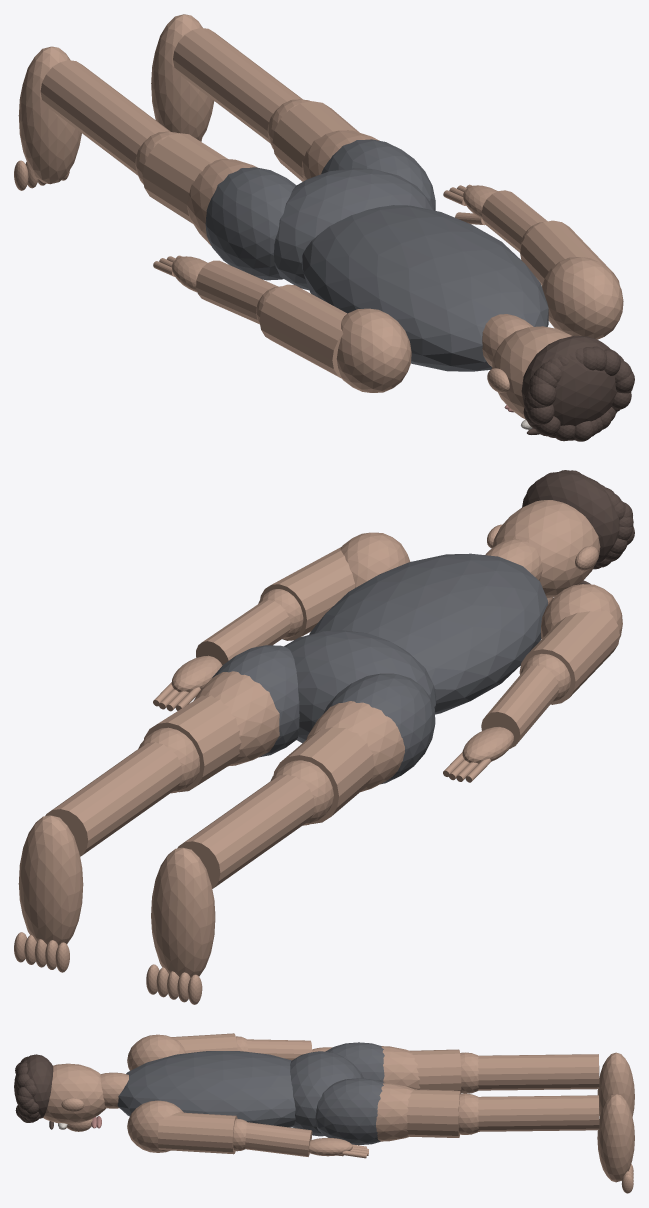
The model's file is A1_Nomad_Static.glb.
3 renders of one model, top to bottom at view 1: azimuth 30°, elevation 25°; view 2: azimuth 150°, elevation 25°; view 3: azimuth 270°, elevation 25°, orthographic. The views are drawn at different scales.
Visible parts, largest first — view 1: body_torso, pelvis, short_R, calf_R, calf_L, deltoid_L, deltoid_R, foot_R, upper_arm_R, foot_L, hair_cap, leg_thigh_R (+12 smaller); view 2: body_torso, pelvis, calf_L, calf_R, foot_R, foot_L, head, short_R, upper_arm_R, leg_thigh_R, leg_thigh_L, upper_thigh_L (+15 smaller); view 3: body_torso, calf_R, calf_L, short_L, pelvis, upper_arm_L, head, foot_L, leg_thigh_L, leg_thigh_R, forearm_L, upper_thigh_L (+14 smaller).
Boxes of the visible parts, <box> form: body_torso: <box>302,205,548,371</box>; pelvis: <box>273,168,433,290</box>; short_R: <box>205,167,296,280</box>; calf_R: <box>40,60,170,175</box>; calf_L: <box>173,28,302,142</box>; deltoid_L: <box>542,257,623,339</box>; deltoid_R: <box>336,308,411,392</box>; foot_R: <box>18,46,81,184</box>; upper_arm_R: <box>259,284,347,379</box>; foot_L: <box>151,14,214,140</box>; hair_cap: <box>521,335,616,426</box>; leg_thigh_R: <box>142,133,227,223</box>; body_torso: <box>309,553,547,714</box>; pelvis: <box>284,630,436,743</box>; calf_L: <box>45,742,182,856</box>; calf_R: <box>177,774,314,888</box>; foot_R: <box>151,847,215,977</box>; foot_L: <box>18,815,83,945</box>; head: <box>492,500,600,598</box>; short_R: <box>323,673,435,784</box>; upper_arm_R: <box>519,610,619,704</box>; leg_thigh_R: <box>273,727,374,823</box>; leg_thigh_L: <box>144,695,241,792</box>; upper_thigh_L: <box>193,671,279,766</box>; body_torso: <box>117,1051,295,1127</box>; calf_R: <box>478,1054,599,1090</box>; calf_L: <box>478,1095,599,1131</box>; short_L: <box>315,1078,384,1145</box>; pelvis: <box>290,1051,363,1136</box>; upper_arm_L: <box>158,1112,237,1154</box>; head: <box>43,1063,105,1123</box>; foot_L: <box>597,1094,634,1182</box>; leg_thigh_L: <box>406,1089,460,1137</box>; leg_thigh_R: <box>410,1049,461,1092</box>; forearm_L: <box>245,1122,312,1156</box>; upper_thigh_L: <box>376,1083,414,1141</box>.
Bounding box in the file's own units: 0.688 × 0.344 × 1.78.
